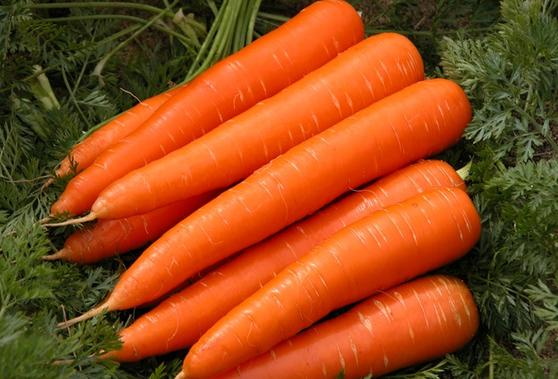carrot: (58, 72, 489, 312)
